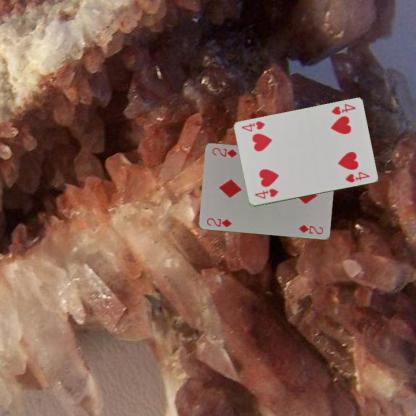2d: (204, 215, 233, 228)
4h: (252, 186, 280, 201), (329, 102, 357, 116)
